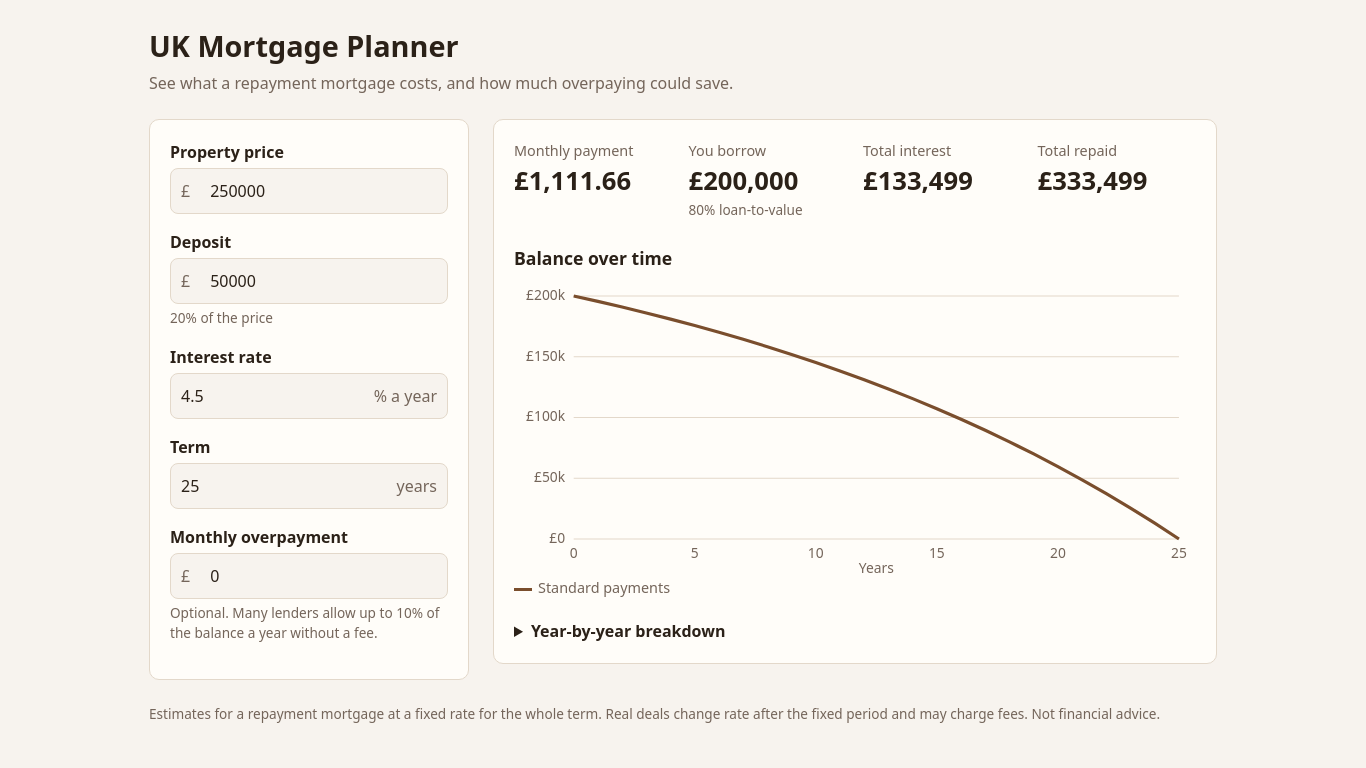
Test: App › flags a bad field and hides results until it is fixed
The width and height of the screenshot is (1366, 768).
Replace the text in the number field labelled "Deposit" with "300000" at (324, 281), box [200,259,447,303]
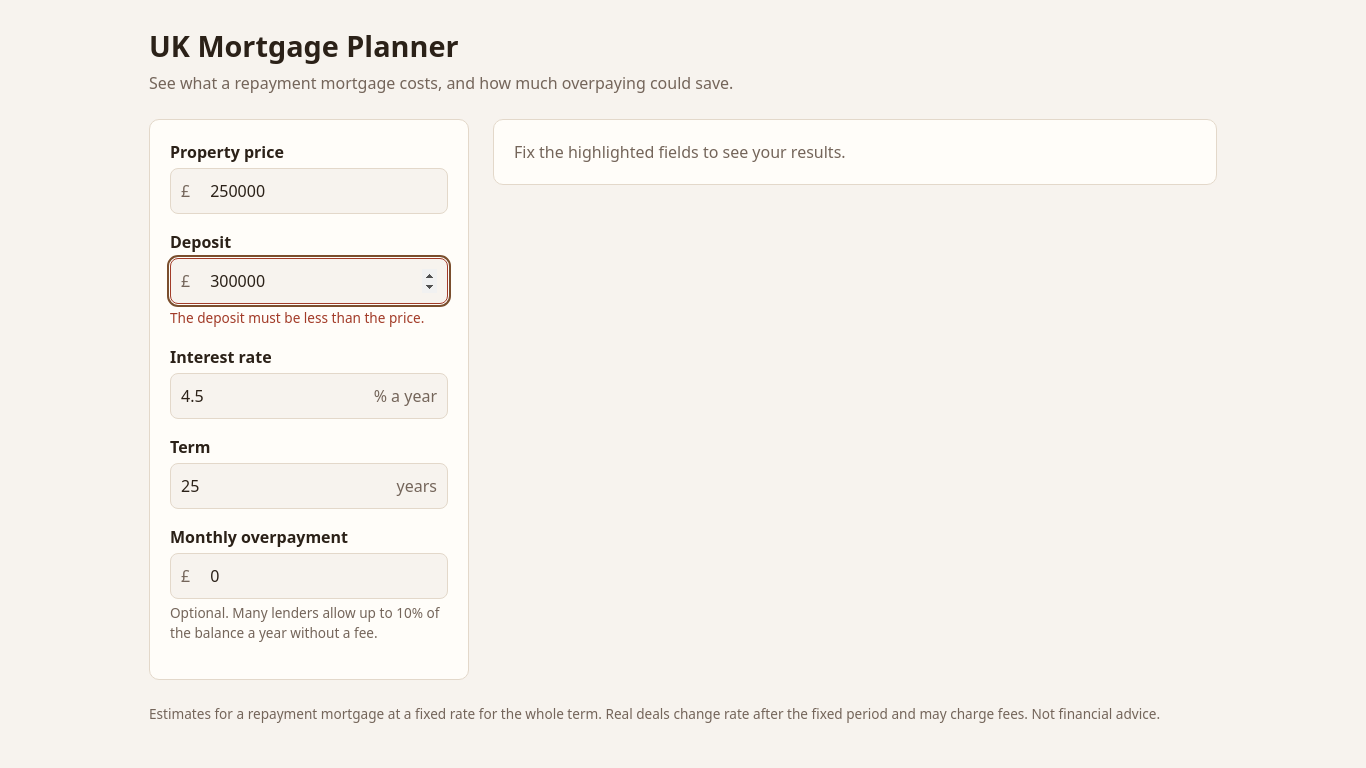
Expected: the element "results" shows "Fix the highlighted fields", [514,141,846,163]
Replace the text in the number field labelled "Deposit" with "50000" at (324, 281), box [200,259,447,303]
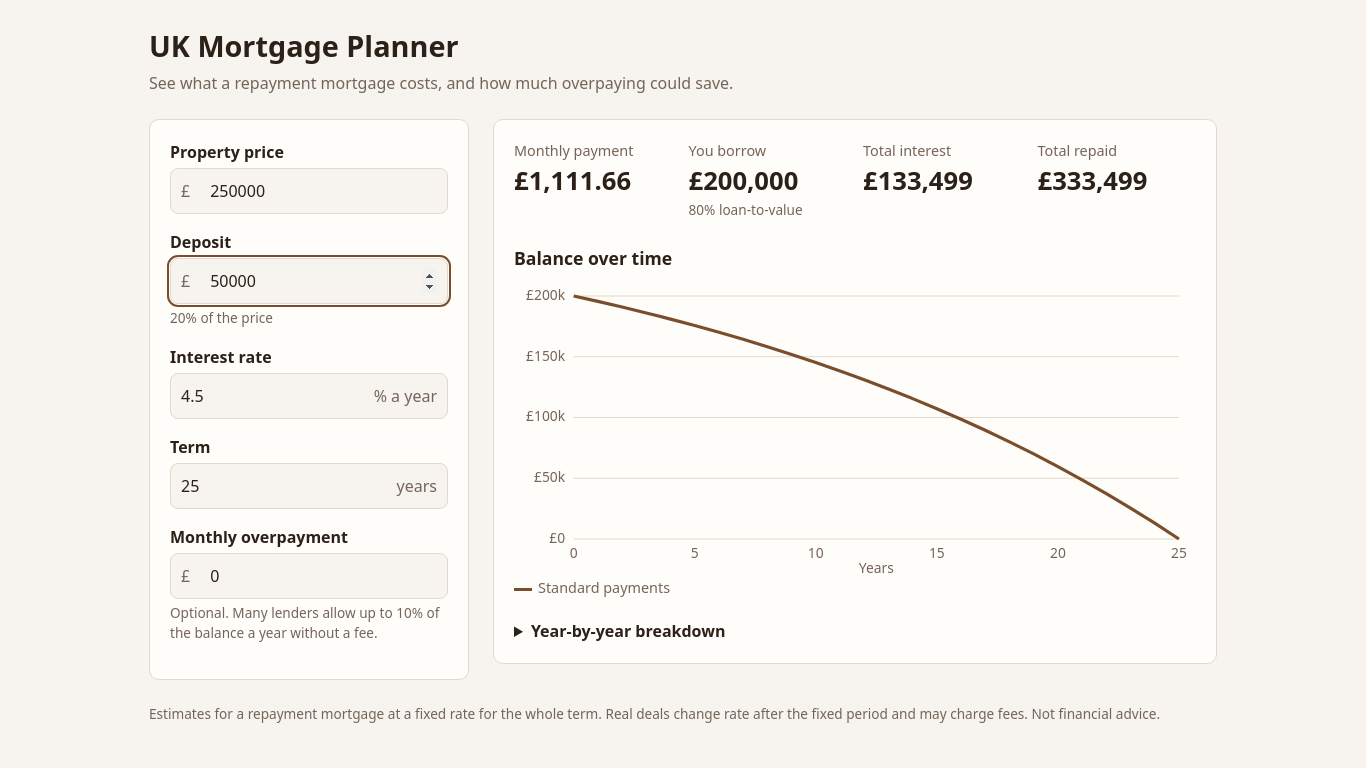
Expected: the element named "Results" shows "Monthly payment", [514,141,634,160]
